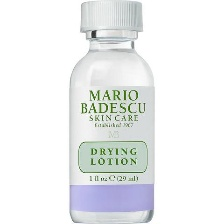bottle: (65, 0, 156, 224)
